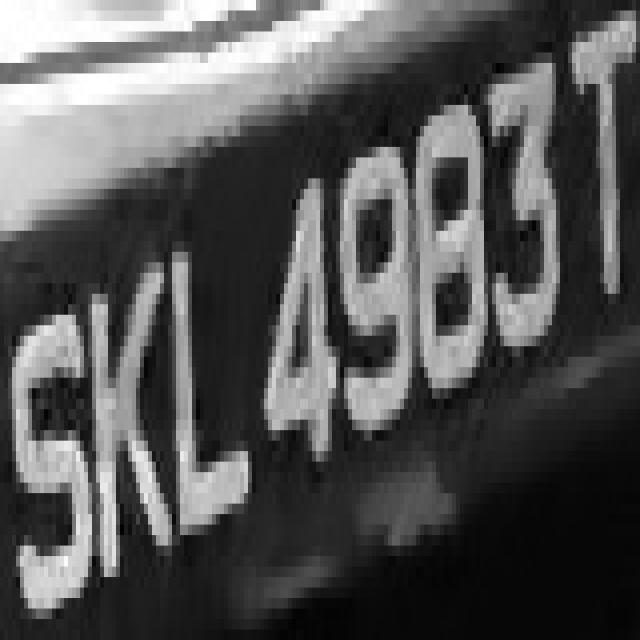3: (484, 11, 560, 367)
4: (248, 147, 344, 472)
8: (408, 53, 484, 430)
9: (324, 95, 416, 472)
K: (80, 210, 160, 587)
L: (164, 200, 260, 546)
S: (12, 273, 92, 640)
T: (564, 21, 636, 346)
